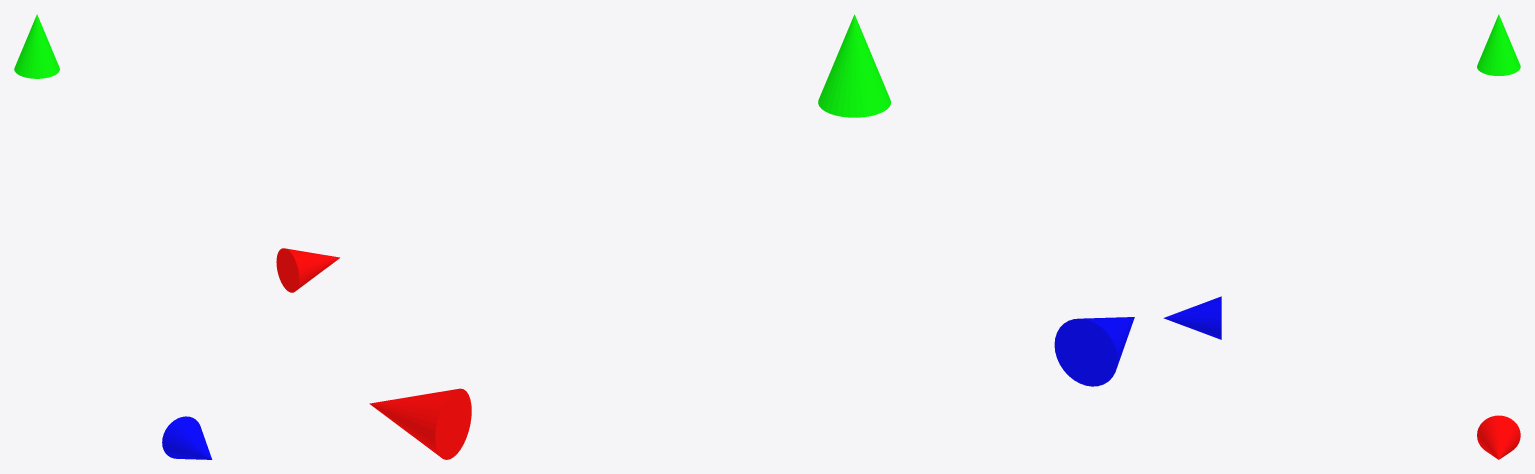
Rendered from gizmo-pos.glb.
The picture shows the model from 3 angles, left to right: view 1: azimuth 30°, elevation 25°; view 2: azimuth 150°, elevation 25°; view 3: azimuth 270°, elevation 25°; orthographic projection. The views are drawn at different scales.
Parts seen in each view (by area): view 1: Cone.002, Cone.001, Cone; view 2: Cone.002, Cone.001, Cone; view 3: Cone.001, Cone.002, Cone.
Part boxes in pixels (<box>): Cone.002: <box>276,248,339,292</box>; Cone.001: <box>14,14,59,78</box>; Cone: <box>162,416,212,459</box>; Cone.002: <box>369,388,471,459</box>; Cone.001: <box>818,14,890,117</box>; Cone: <box>1054,317,1134,386</box>; Cone.001: <box>1477,14,1520,75</box>; Cone.002: <box>1477,415,1520,459</box>; Cone: <box>1163,296,1221,339</box>.
Bounding box in the file's own units: 0.49 × 0.49 × 0.49.
Materials: 1 (1 with a texture image).
